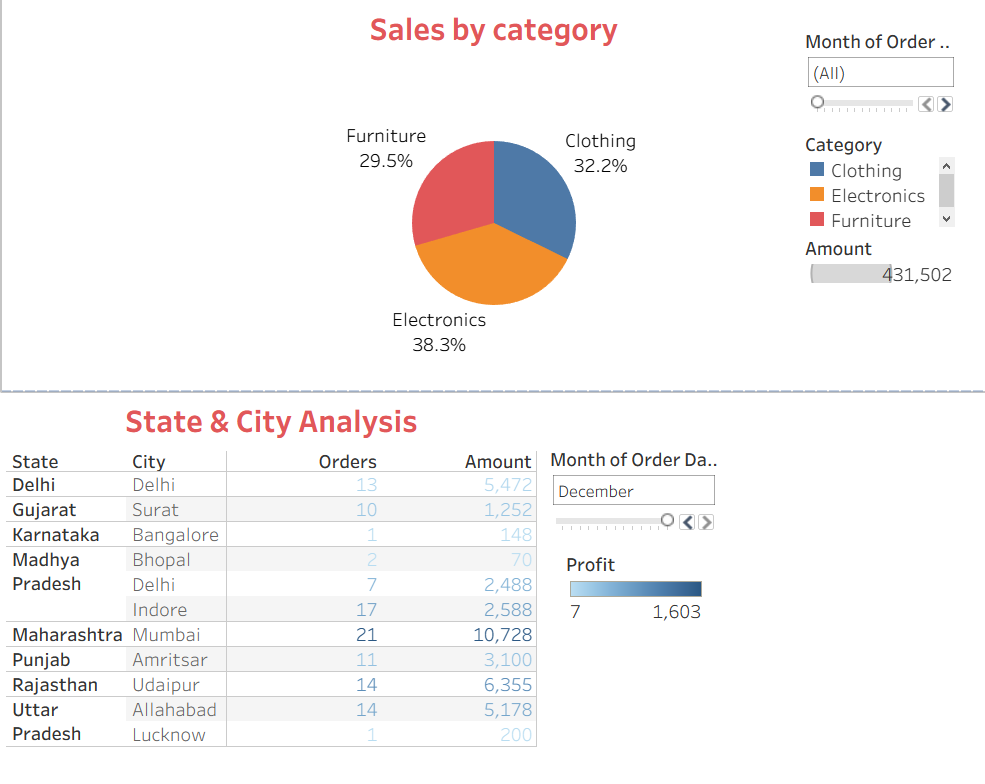

The page's visual inventory and layout, read from the dashboard file:
{"tool":"tableau","page":{"name":"Sales Performance Dashboard ","canvas":[1000,800],"ordinal":1},"visuals":[{"type":"worksheet","title":"Sales by category","mark":"Pie","box":[8,8,984,392]},{"type":"filter","title":"Sales by category","param":"[federated.0clrlfu1ud6t3314kv0vz0fq872m].[mn:Order Date:ok]","box":[807,33,160,103]},{"type":"legend","title":"Sales by category","param":"[federated.0clrlfu1ud6t3314kv0vz0fq872m].[none:Category:nk]","box":[807,136,160,104]},{"type":"legend","title":"Sales by category","param":"[federated.0clrlfu1ud6t3314kv0vz0fq872m].[sum:Amount:qk]","box":[807,240,160,59]},{"type":"worksheet","title":"State & City Analysis","mark":"Automatic","rows":["State","City"],"box":[8,400,984,392]},{"type":"filter","title":"State & City Analysis","param":"[federated.0clrlfu1ud6t3314kv0vz0fq872m].[mn:Order Date:ok]","box":[556,455,168,103]},{"type":"legend","title":"State & City Analysis","param":"[federated.0clrlfu1ud6t3314kv0vz0fq872m].[sum:Profit:qk]","box":[572,560,140,100]}]}

Visuals, with their boxes in screenshot pixels (x1, y1, x2, y2), scaled from the page's 1000x800 canvas onto the 985x784 screenshot:
"Sales by category" worksheet (Pie marks): <bbox>8, 8, 977, 392</bbox>
"Sales by category" filter: <bbox>795, 32, 952, 133</bbox>
"Sales by category" legend: <bbox>795, 133, 952, 235</bbox>
"Sales by category" legend: <bbox>795, 235, 952, 293</bbox>
"State & City Analysis" worksheet: <bbox>8, 392, 977, 776</bbox>
"State & City Analysis" filter: <bbox>548, 446, 713, 547</bbox>
"State & City Analysis" legend: <bbox>563, 549, 701, 647</bbox>
